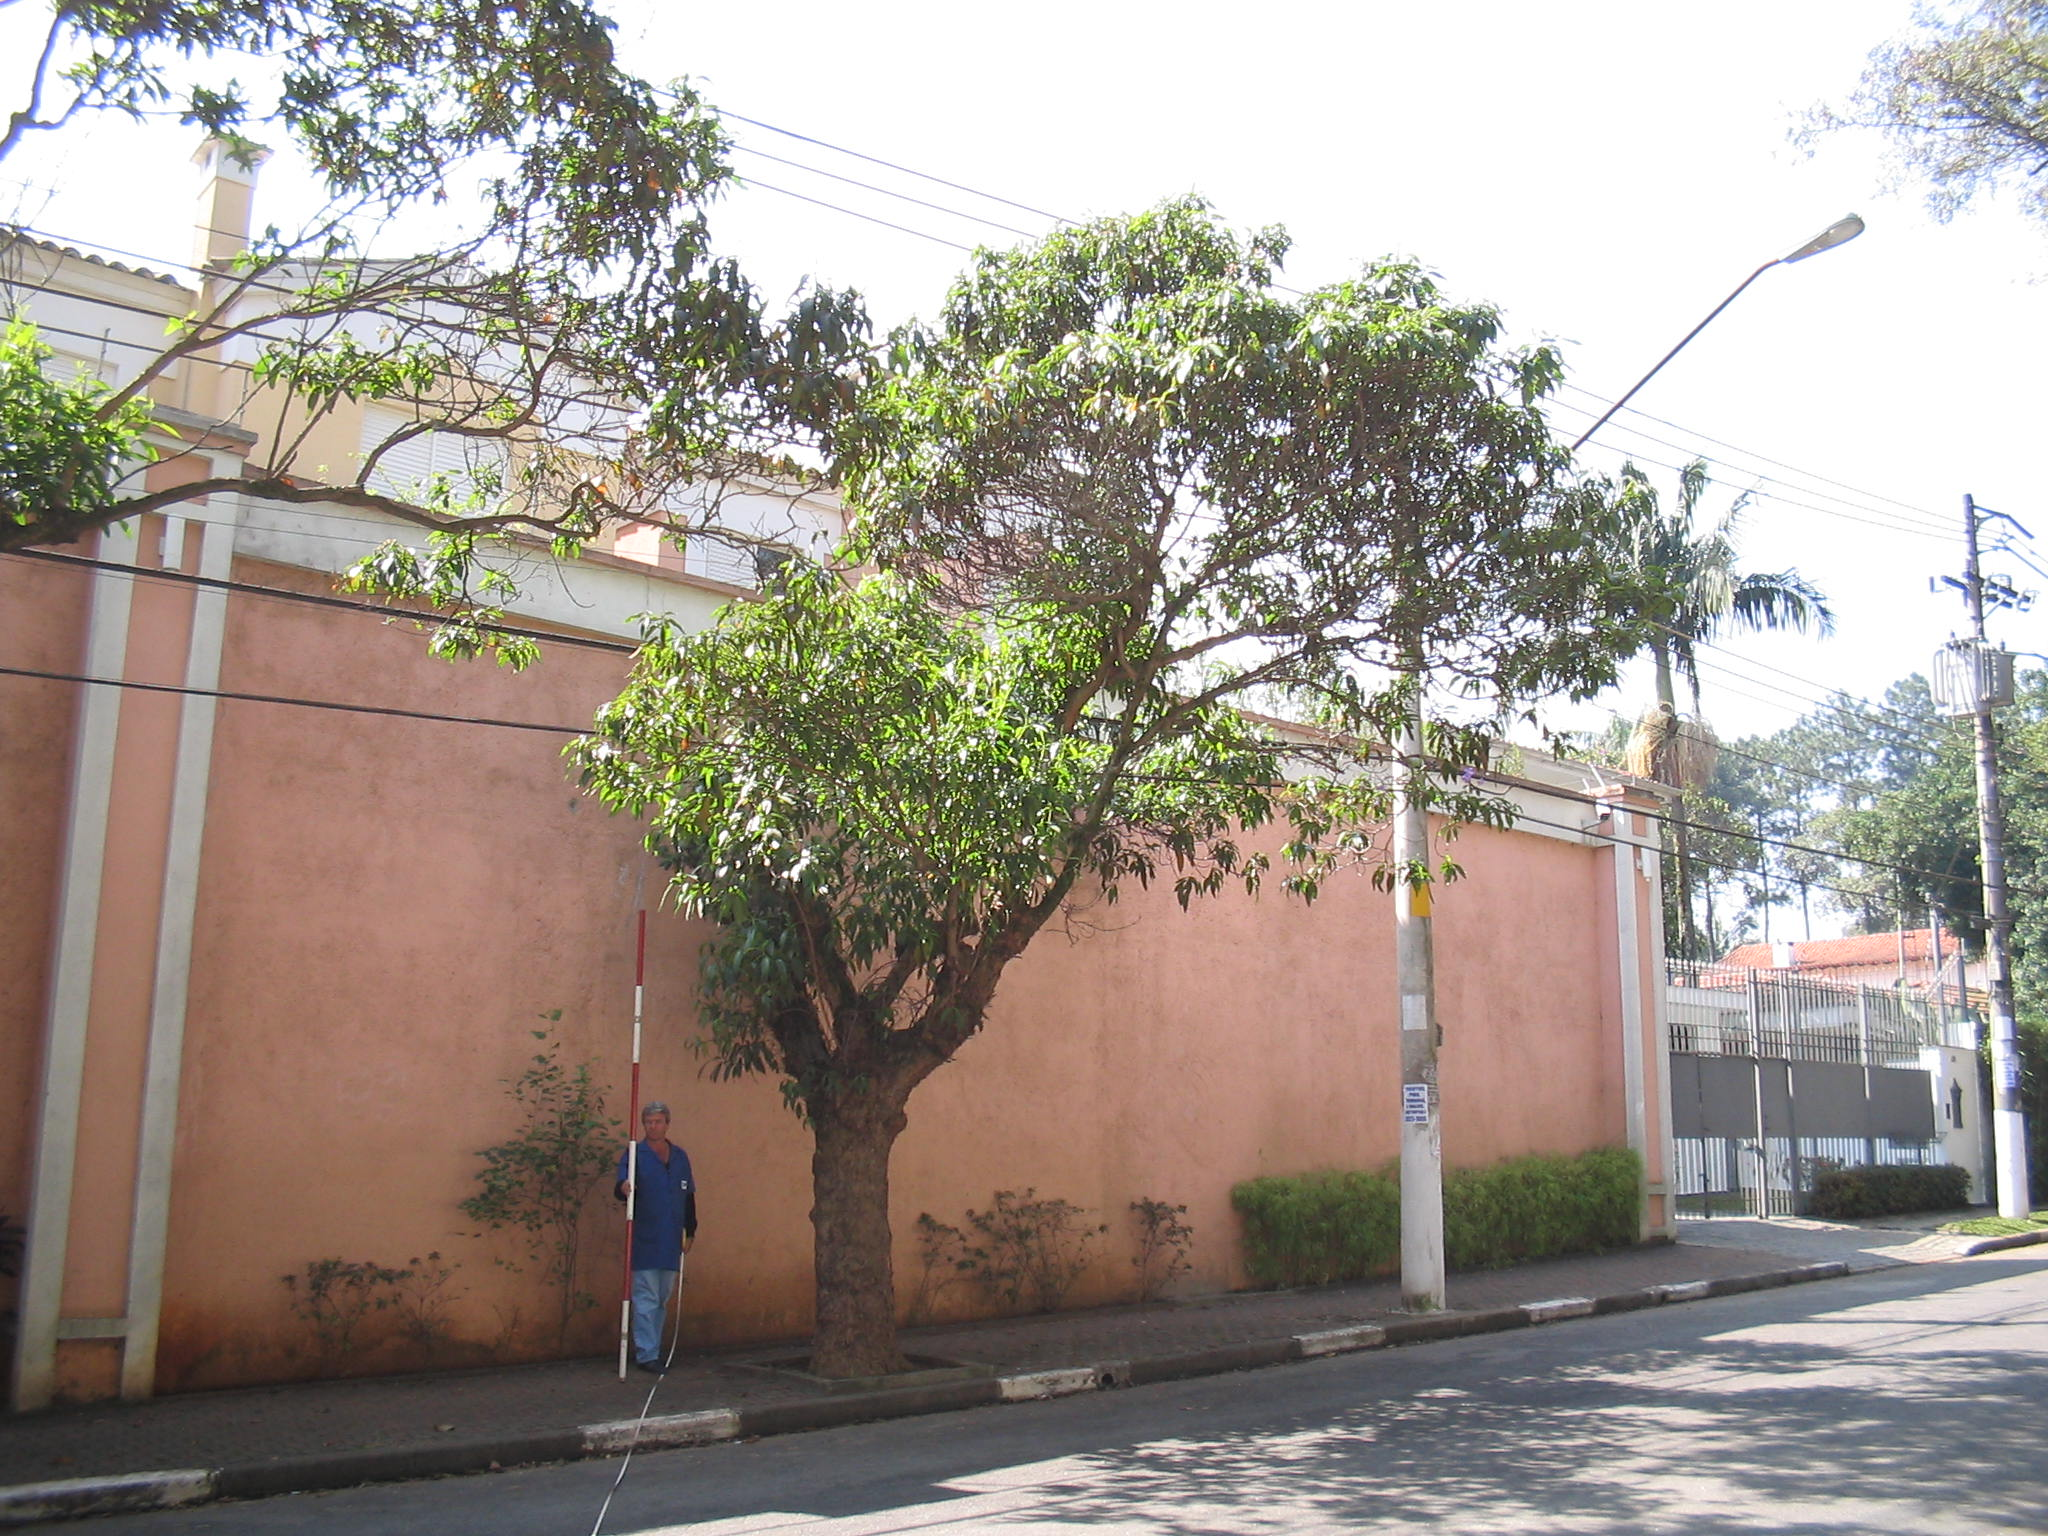crown: (574, 189, 1687, 1096)
stem: (745, 1079, 963, 1375)
stick: (589, 905, 664, 1379)
tree: (569, 187, 1690, 1379)
